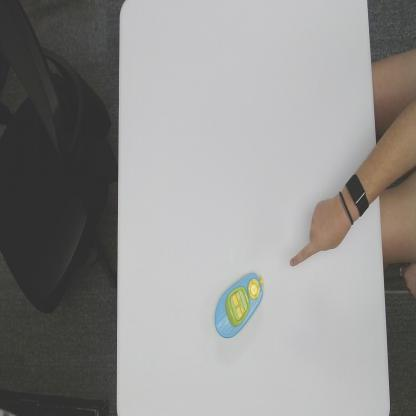Arm: (366, 143, 382, 201)
Boat: (214, 270, 266, 338)
Hand: (289, 193, 347, 268)
